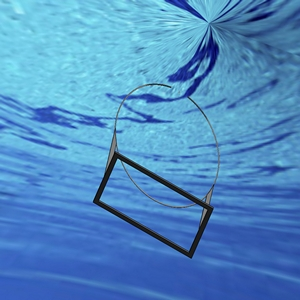circle: (92, 79, 221, 259)
